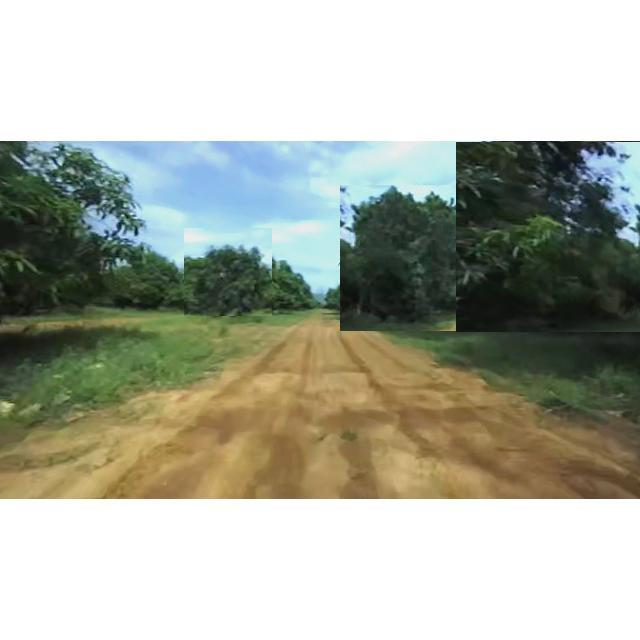direk: (456, 142, 640, 332), (1, 143, 148, 323), (340, 185, 472, 331), (102, 228, 196, 314), (184, 228, 272, 316), (253, 247, 314, 316)
